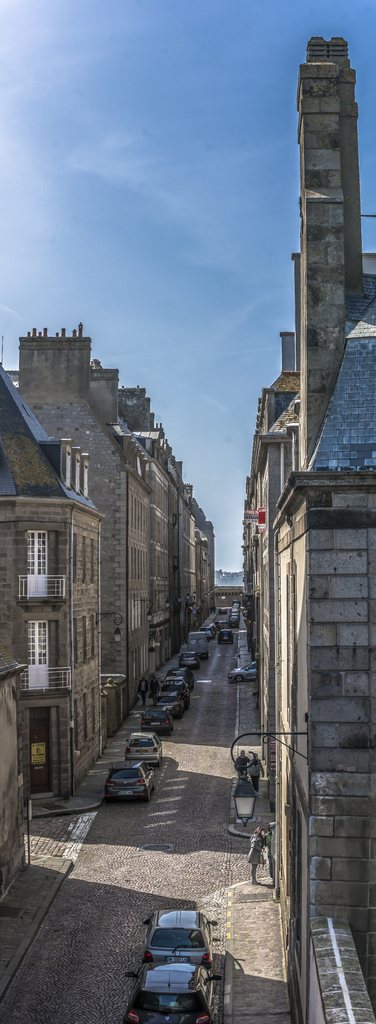Car: (101, 646, 199, 805), (116, 965, 223, 1023), (137, 908, 218, 961), (226, 660, 258, 681)
